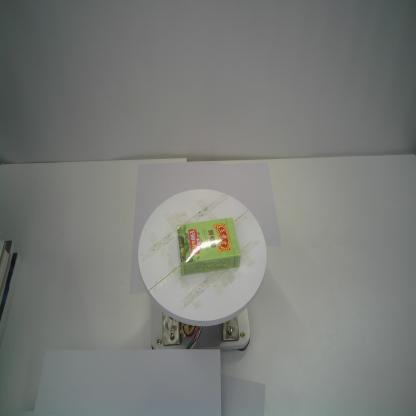Candy: (175, 214, 242, 276)
